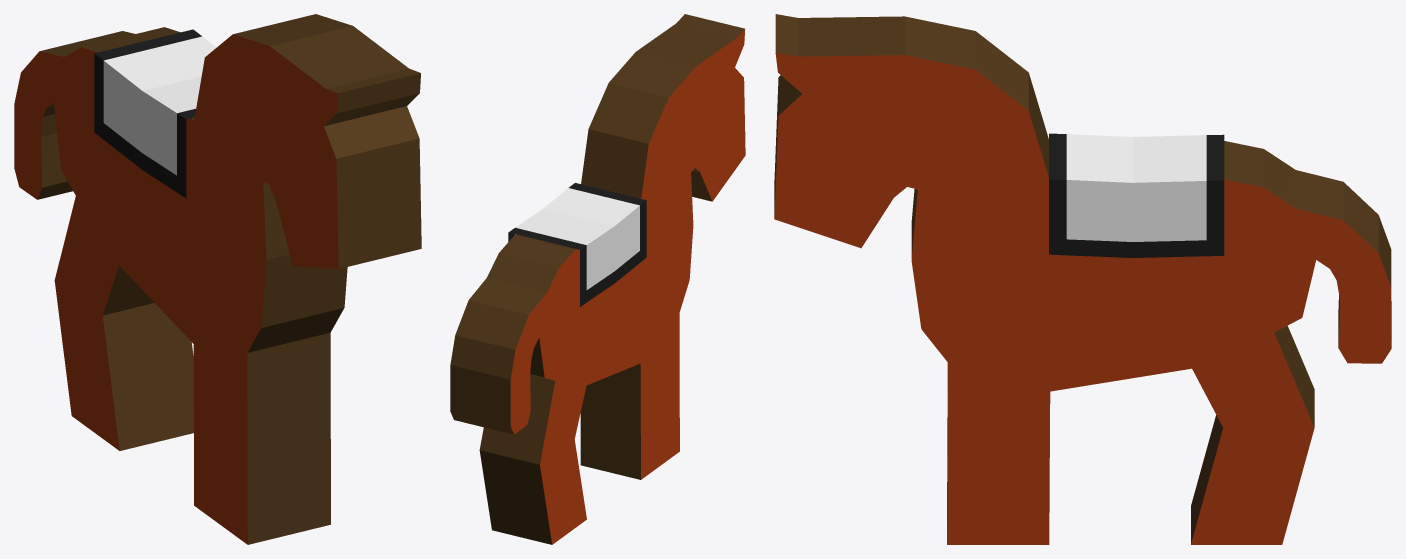
File: Horse_Trader.fbx
The picture shows the model from 3 angles, left to right: view 1: azimuth 30°, elevation 25°; view 2: azimuth 150°, elevation 25°; view 3: azimuth 270°, elevation 25°; orthographic projection. The views are drawn at different scales.
Parts seen in each view (by area): view 1: Horse_Trader; view 2: Horse_Trader; view 3: Horse_Trader.
Boxes of the visible parts, x1,y1,x2,y2 form: Horse_Trader: (14,14,421,544); Horse_Trader: (450,14,745,544); Horse_Trader: (774,14,1391,544).
Bounding box in the file's own units: 0.2228 × 1.12 × 1.27.
